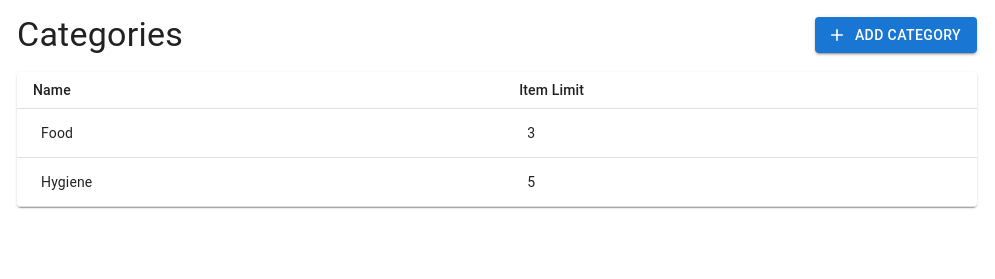
Test: CategoriesTable Component › shows add category form when button clicked
Click the button "Add category". click: (896, 35)
box: [815,17,977,53]
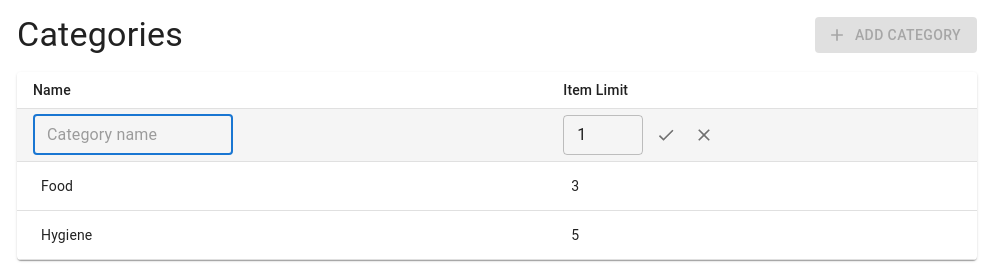
Expected: the number of fields with placeholder "Category name" is 1, [33,115,233,155]
